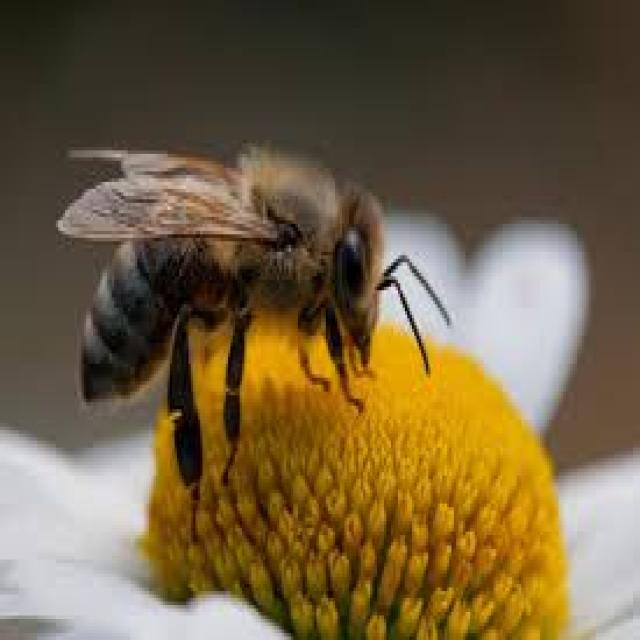Bees: (63, 142, 452, 540)
